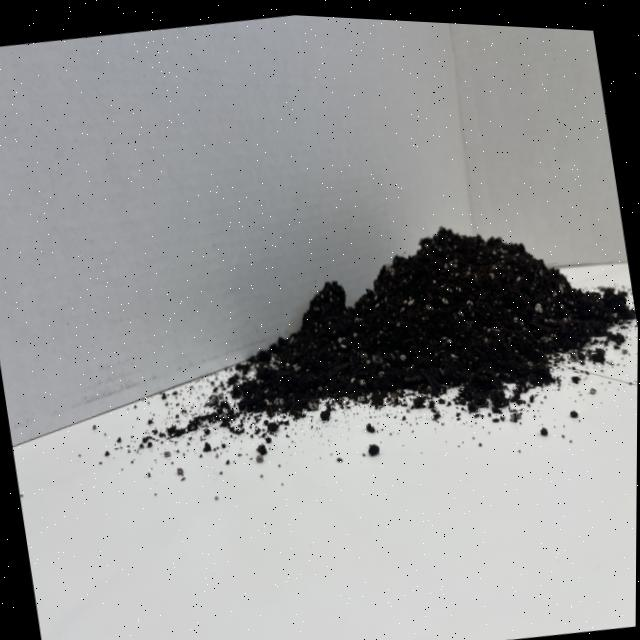soil: (204, 184, 639, 457)
